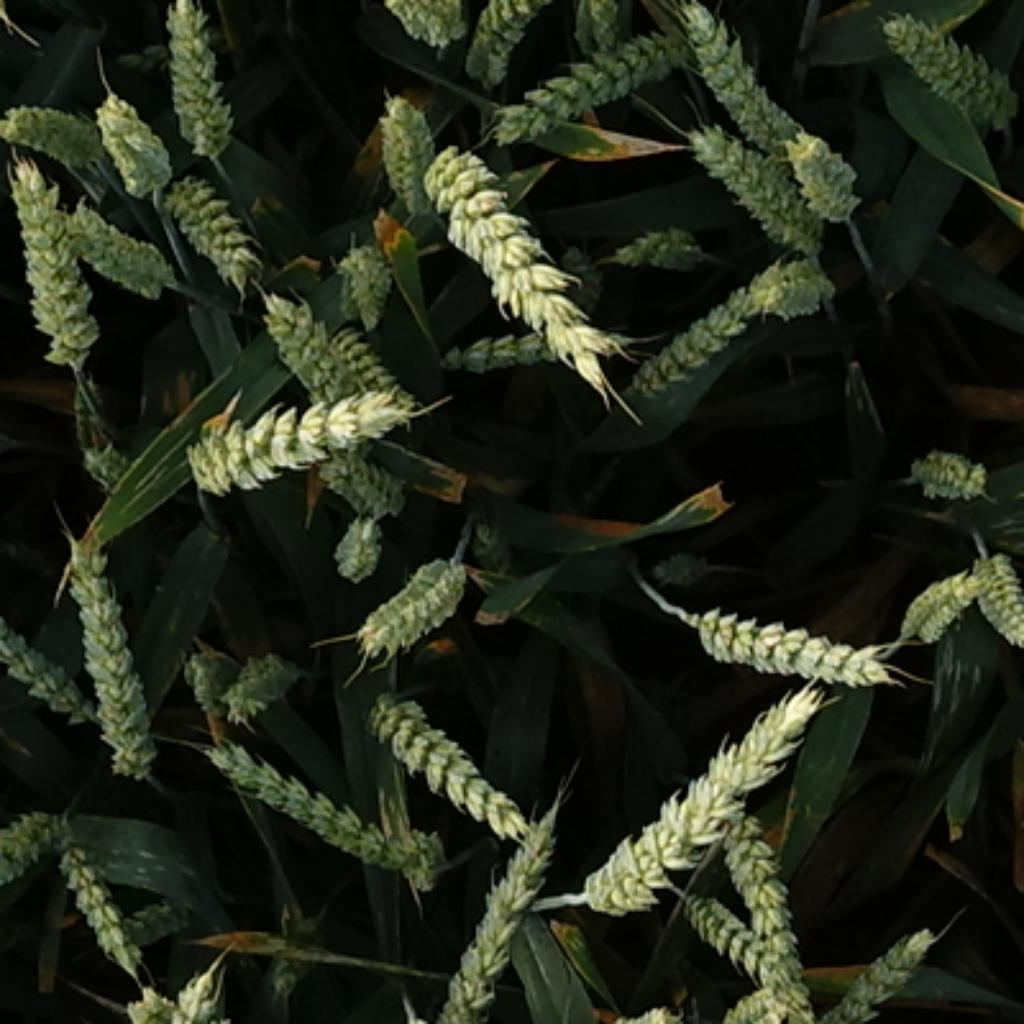0-0: (419, 145, 624, 381), (192, 724, 445, 885), (573, 724, 755, 919), (404, 801, 554, 1024), (622, 250, 806, 407), (355, 673, 529, 832), (483, 20, 688, 153), (56, 537, 163, 785), (171, 381, 407, 488), (724, 806, 832, 1024), (680, 596, 916, 691), (7, 151, 107, 371), (668, 2, 803, 140), (885, 7, 1024, 133), (683, 117, 824, 240), (809, 912, 960, 1024), (716, 680, 855, 801), (253, 291, 391, 404), (38, 816, 145, 957), (350, 537, 478, 652), (163, 171, 279, 291), (437, 325, 657, 386), (153, 2, 240, 156), (61, 194, 176, 299), (2, 599, 94, 727), (675, 888, 780, 988), (270, 892, 360, 999), (371, 84, 442, 207), (304, 432, 417, 509), (94, 84, 176, 189), (785, 120, 867, 220), (460, 2, 560, 84), (2, 798, 84, 893), (901, 555, 995, 637), (744, 250, 847, 320), (2, 97, 102, 166), (962, 542, 1024, 645), (335, 238, 401, 332), (181, 637, 258, 714), (901, 432, 993, 496), (606, 215, 711, 271), (127, 986, 263, 1024), (221, 652, 297, 719), (168, 959, 243, 1024), (81, 438, 148, 502), (327, 504, 389, 573), (378, 2, 476, 43), (70, 370, 113, 456), (570, 2, 632, 61), (465, 514, 522, 576), (645, 550, 714, 594), (599, 995, 680, 1024)
